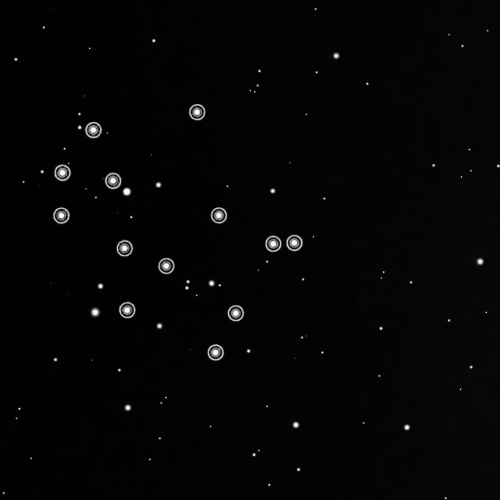gemini: (41, 101, 306, 367)
